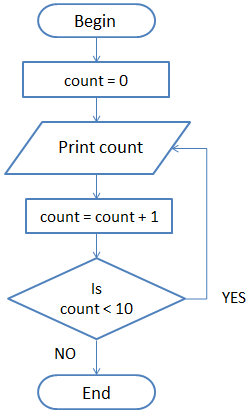arrow: (169, 144, 209, 302), (90, 34, 103, 62), (91, 339, 101, 375), (90, 172, 102, 201), (91, 231, 101, 260), (91, 96, 101, 121)
data: (3, 119, 193, 177)
decision: (6, 257, 187, 341)
process: (21, 59, 172, 100), (23, 196, 176, 236)
terminator: (36, 1, 158, 40), (36, 372, 157, 411)
text: (59, 281, 135, 316), (38, 209, 160, 223), (57, 138, 145, 155), (62, 73, 130, 87), (72, 12, 117, 30), (80, 384, 112, 401), (220, 289, 246, 306), (52, 346, 79, 360)
